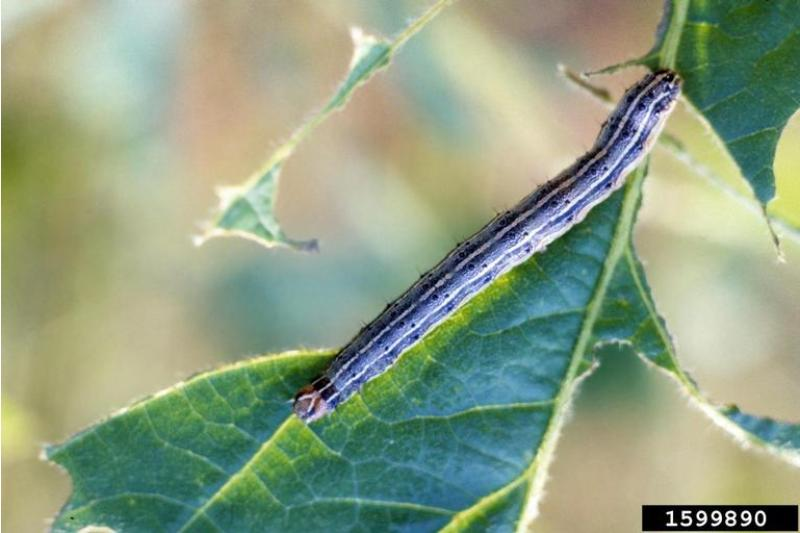fall-armyworm: (286, 71, 682, 427)
